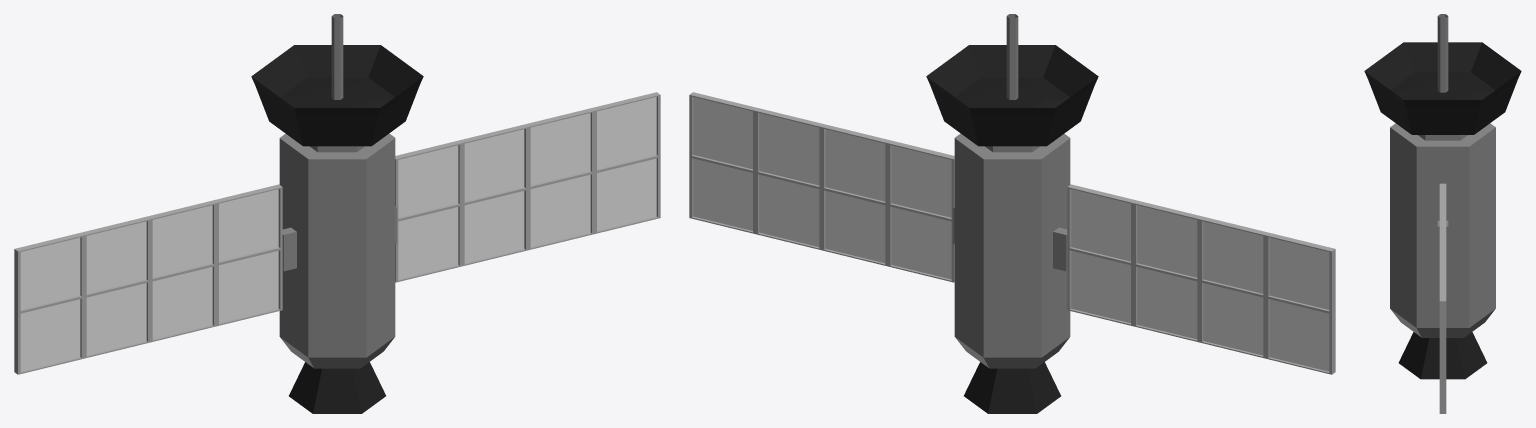
File: Satelite_1.fbx
3 renders of one model, left to right at view 1: azimuth 30°, elevation 25°; view 2: azimuth 150°, elevation 25°; view 3: azimuth 270°, elevation 25°, orthographic. The views are drawn at different scales.
Parts seen in each view (by area): view 1: Satelite 1 FINAL; view 2: Satelite 1 FINAL; view 3: Satelite 1 FINAL.
Part boxes in pixels (bbox=[...]): Satelite 1 FINAL: bbox=[14, 14, 660, 413]; Satelite 1 FINAL: bbox=[689, 14, 1335, 413]; Satelite 1 FINAL: bbox=[1364, 14, 1521, 413].
Size of the model in its own units: 1277 by 722 by 297.
Materials: 3 (2 with a texture image).
